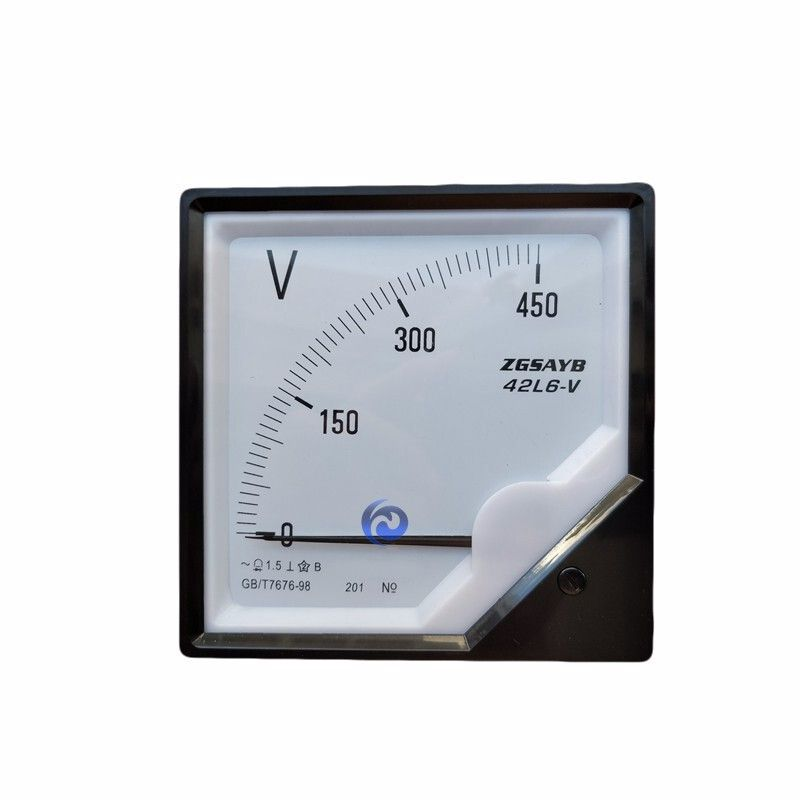pointer: (200, 207, 630, 635)
